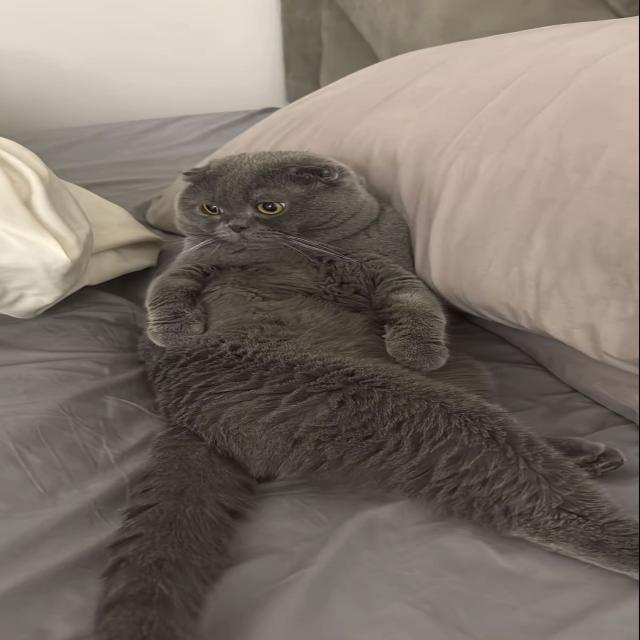british shorthair: (80, 80, 623, 640)
